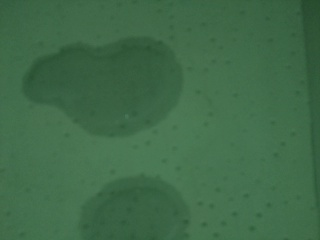Water_detected: (51, 49, 156, 128), (99, 183, 163, 240)
